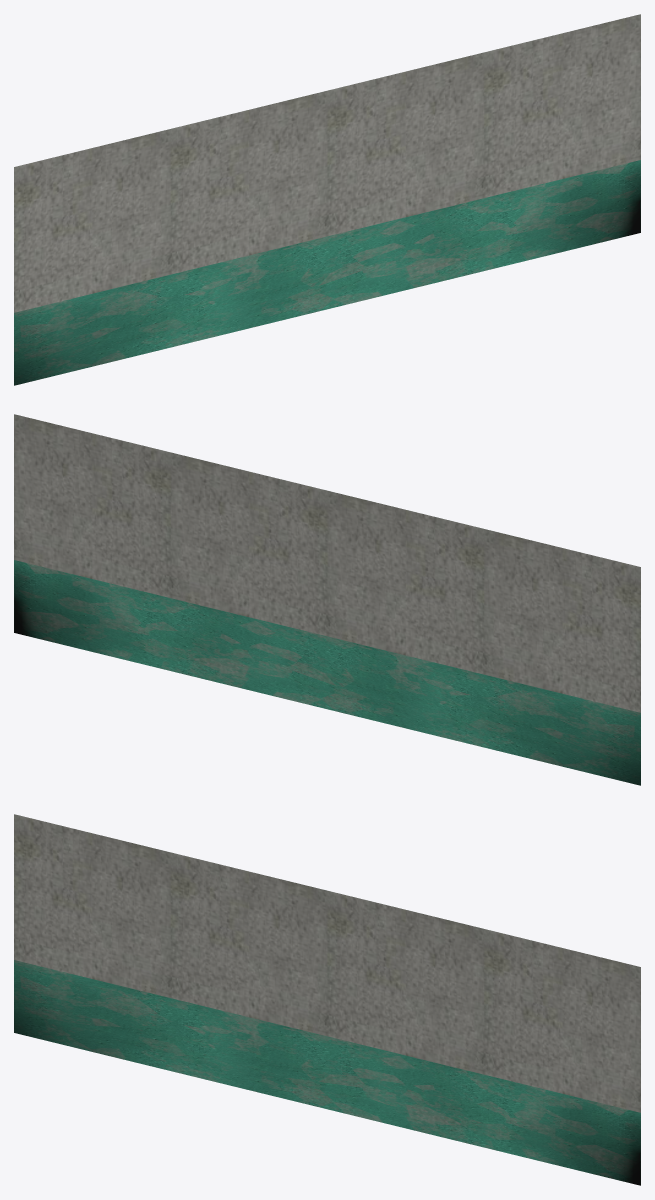
Rendered from wall12x4.glb.
The picture shows the model from 3 angles, top to bottom: view 1: azimuth 30°, elevation 25°; view 2: azimuth 150°, elevation 25°; view 3: azimuth 330°, elevation 25°; orthographic projection.
Visible parts, largest first — view 1: Plane; view 2: Plane; view 3: Plane.
Part boxes in pixels (bbox=[...]): Plane: bbox=[14, 14, 640, 385]; Plane: bbox=[14, 414, 640, 785]; Plane: bbox=[14, 814, 640, 1185].
Size of the model in its own units: 12 by 4 by 8.74e-08.
Materials: 2 (2 with a texture image).
